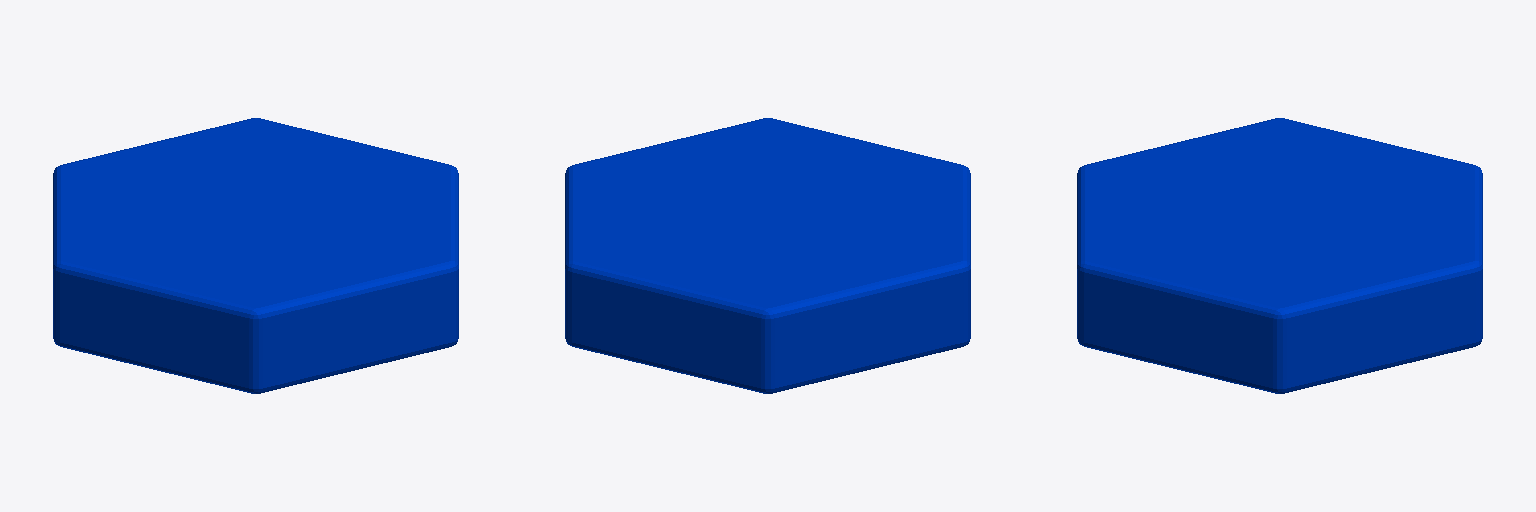
File: hexPrismInsect.obj
3 views of the same model, side by side, from view 1: azimuth 30°, elevation 25°; view 2: azimuth 150°, elevation 25°; view 3: azimuth 270°, elevation 25° (orthographic).
Visible parts, largest first — view 1: Cylinder_Cylinder.001; view 2: Cylinder_Cylinder.001; view 3: Cylinder_Cylinder.001.
Boxes of the visible parts, box(x1,y1,x2,y2) form: Cylinder_Cylinder.001: box(53, 118, 458, 393); Cylinder_Cylinder.001: box(565, 118, 970, 393); Cylinder_Cylinder.001: box(1077, 118, 1482, 393).
Size of the model in its own units: 1.98 by 0.4 by 1.73.